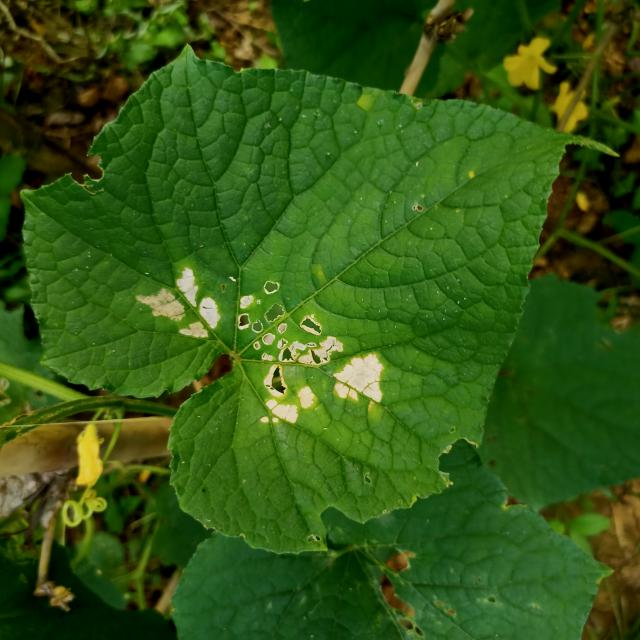disease_cucumber: (233, 278, 384, 432), (138, 264, 224, 344)
